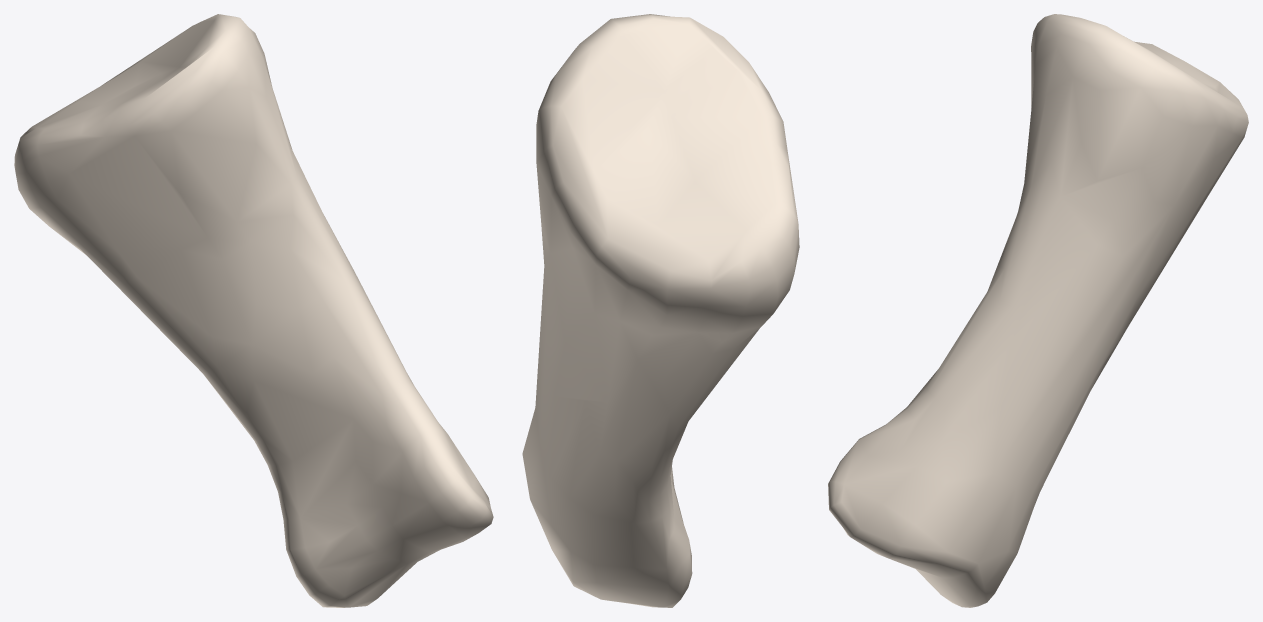
File: left_digit_1_proximal.glb
The picture shows the model from 3 angles, left to right: view 1: azimuth 30°, elevation 25°; view 2: azimuth 150°, elevation 25°; view 3: azimuth 270°, elevation 25°; orthographic projection. The views are drawn at different scales.
Parts seen in each view (by area): view 1: Proximal phalanx of 1st finger.r; view 2: Proximal phalanx of 1st finger.r; view 3: Proximal phalanx of 1st finger.r.
Part boxes in pixels (x1,y1,x2,y2): Proximal phalanx of 1st finger.r: (14,14,493,607); Proximal phalanx of 1st finger.r: (522,14,799,607); Proximal phalanx of 1st finger.r: (828,14,1248,607).
Bounding box in the file's own units: 0.0204 × 0.032 × 0.0224.
